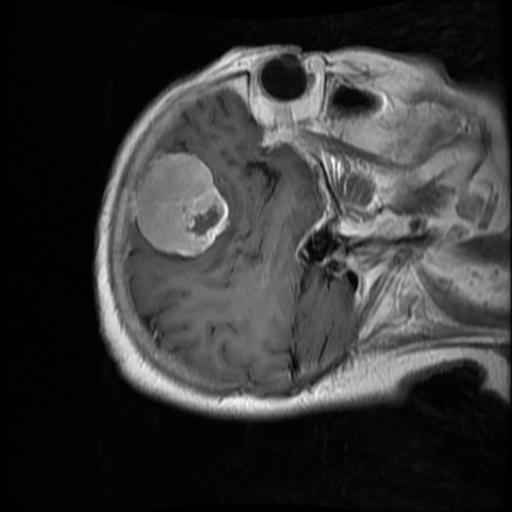meningioma: (134, 152, 228, 257)
